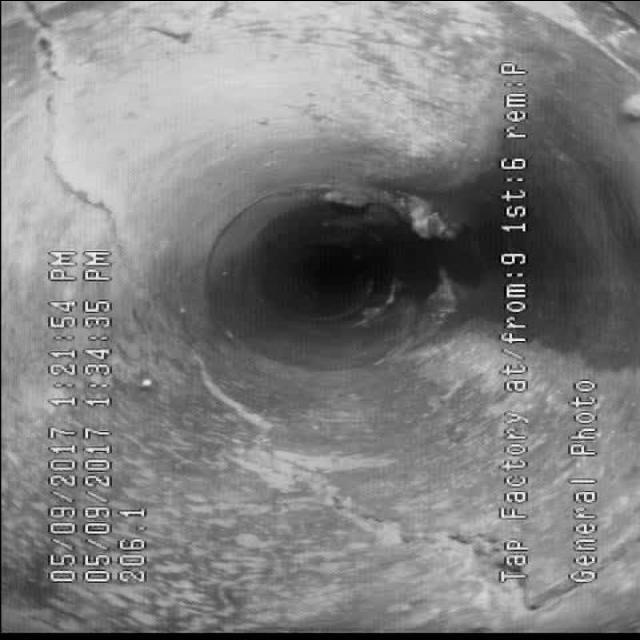Fracture: (11, 64, 161, 258), (265, 440, 468, 570)
